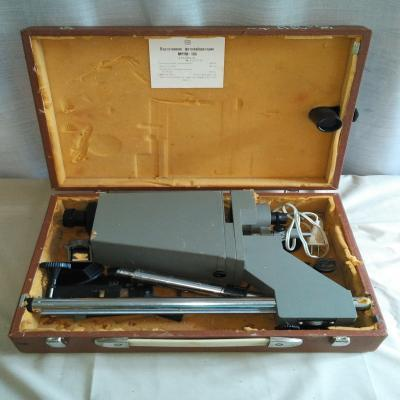technique: (9, 26, 388, 356)
